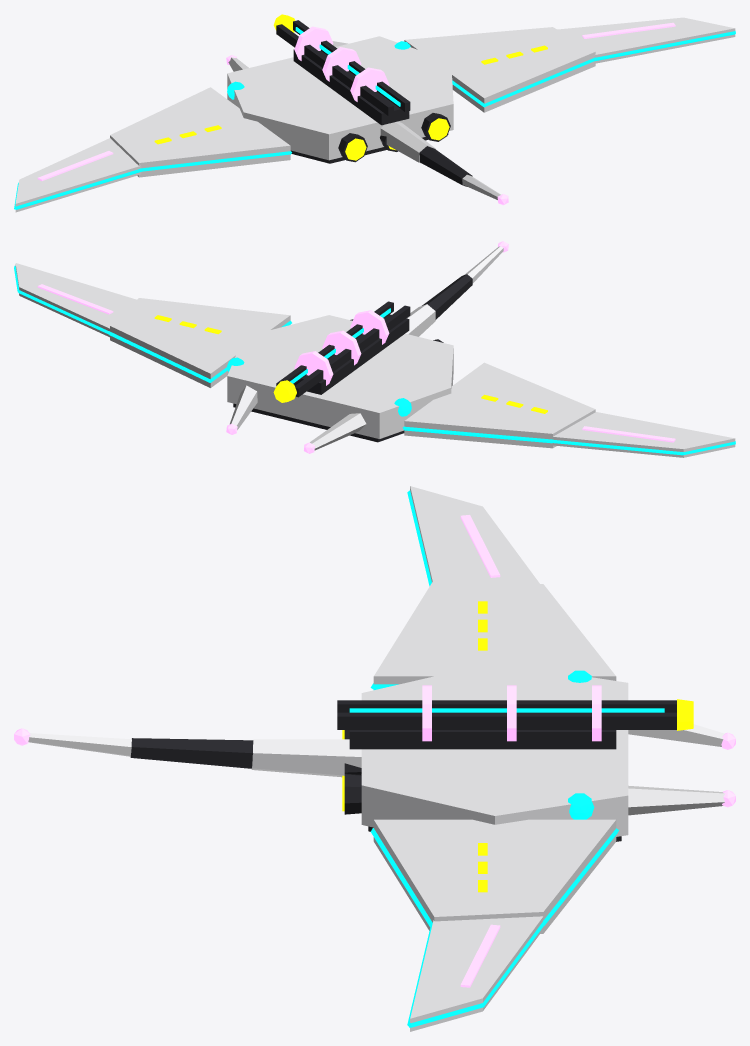
Rendered from MantaLeviathan.fbx.
The picture shows the model from 3 angles, top to bottom: view 1: azimuth 30°, elevation 25°; view 2: azimuth 150°, elevation 25°; view 3: azimuth 270°, elevation 25°; orthographic projection. The views are drawn at different scales.
Parts seen in each view (by area): view 1: Manta_Core, Manta_InnerWingR, Manta_InnerWingL, MantaLeviathan_WingTipR, MantaLeviathan_WingTipL, Manta_RailBase, Manta_Rail-1, Manta_Tail0, Manta_Tail1, Manta_Rail1, Manta_Coil0, Manta_Coil1 (+10 smaller); view 2: Manta_Core, Manta_InnerWingR, Manta_InnerWingL, MantaLeviathan_WingTipR, MantaLeviathan_WingTipL, Manta_RailBase, Manta_Rail-1, Manta_CephalicR, Manta_Tail1, Manta_InnerWingEdgeR_Edge0, Manta_Coil2, Manta_Coil0 (+12 smaller); view 3: Manta_Core, Manta_InnerWingL, Manta_InnerWingR, MantaLeviathan_WingTipL, MantaLeviathan_WingTipR, Manta_Rail1, Manta_RailBase, Manta_Tail0, Manta_Tail1, Manta_Rail-1, Manta_CephalicL, Manta_Tail2 (+2 smaller).
Boxes of the visible parts, bbox=[...] form: Manta_Core: bbox=[227, 36, 453, 160]; Manta_InnerWingR: bbox=[110, 87, 290, 177]; Manta_InnerWingL: bbox=[404, 27, 595, 112]; MantaLeviathan_WingTipR: bbox=[15, 138, 141, 212]; MantaLeviathan_WingTipL: bbox=[557, 17, 735, 63]; Manta_RailBase: bbox=[293, 49, 409, 125]; Manta_Rail-1: bbox=[276, 24, 393, 115]; Manta_Tail0: bbox=[380, 121, 435, 163]; Manta_Tail1: bbox=[419, 146, 472, 186]; Manta_Rail1: bbox=[293, 20, 410, 111]; Manta_Coil0: bbox=[350, 67, 389, 101]; Manta_Coil1: bbox=[322, 47, 361, 81]; Manta_Core: bbox=[227, 315, 453, 438]; Manta_InnerWingR: bbox=[404, 362, 595, 448]; Manta_InnerWingL: bbox=[110, 298, 290, 387]; MantaLeviathan_WingTipR: bbox=[553, 412, 735, 457]; MantaLeviathan_WingTipL: bbox=[15, 263, 136, 337]; Manta_RailBase: bbox=[294, 314, 409, 394]; Manta_Rail-1: bbox=[295, 305, 410, 397]; Manta_CephalicR: bbox=[310, 413, 366, 450]; Manta_Tail1: bbox=[422, 274, 472, 319]; Manta_InnerWingEdgeR_Edge0: bbox=[404, 426, 552, 443]; Manta_Coil2: bbox=[294, 351, 333, 385]; Manta_Coil0: bbox=[350, 310, 389, 344]; Manta_Core: bbox=[361, 662, 628, 836]; Manta_InnerWingL: bbox=[373, 819, 616, 933]; Manta_InnerWingR: bbox=[373, 579, 616, 684]; MantaLeviathan_WingTipL: bbox=[410, 916, 543, 1031]; MantaLeviathan_WingTipR: bbox=[410, 486, 539, 583]; Manta_Rail1: bbox=[337, 712, 676, 729]; Manta_RailBase: bbox=[349, 730, 616, 749]; Manta_Tail0: bbox=[251, 739, 361, 777]; Manta_Tail1: bbox=[130, 738, 253, 768]; Manta_Rail-1: bbox=[337, 700, 676, 712]; Manta_CephalicL: bbox=[628, 785, 725, 815]; Manta_Tail2: bbox=[28, 733, 131, 756].
Size of the model in its own units: 5.22 by 0.64 by 2.98.
